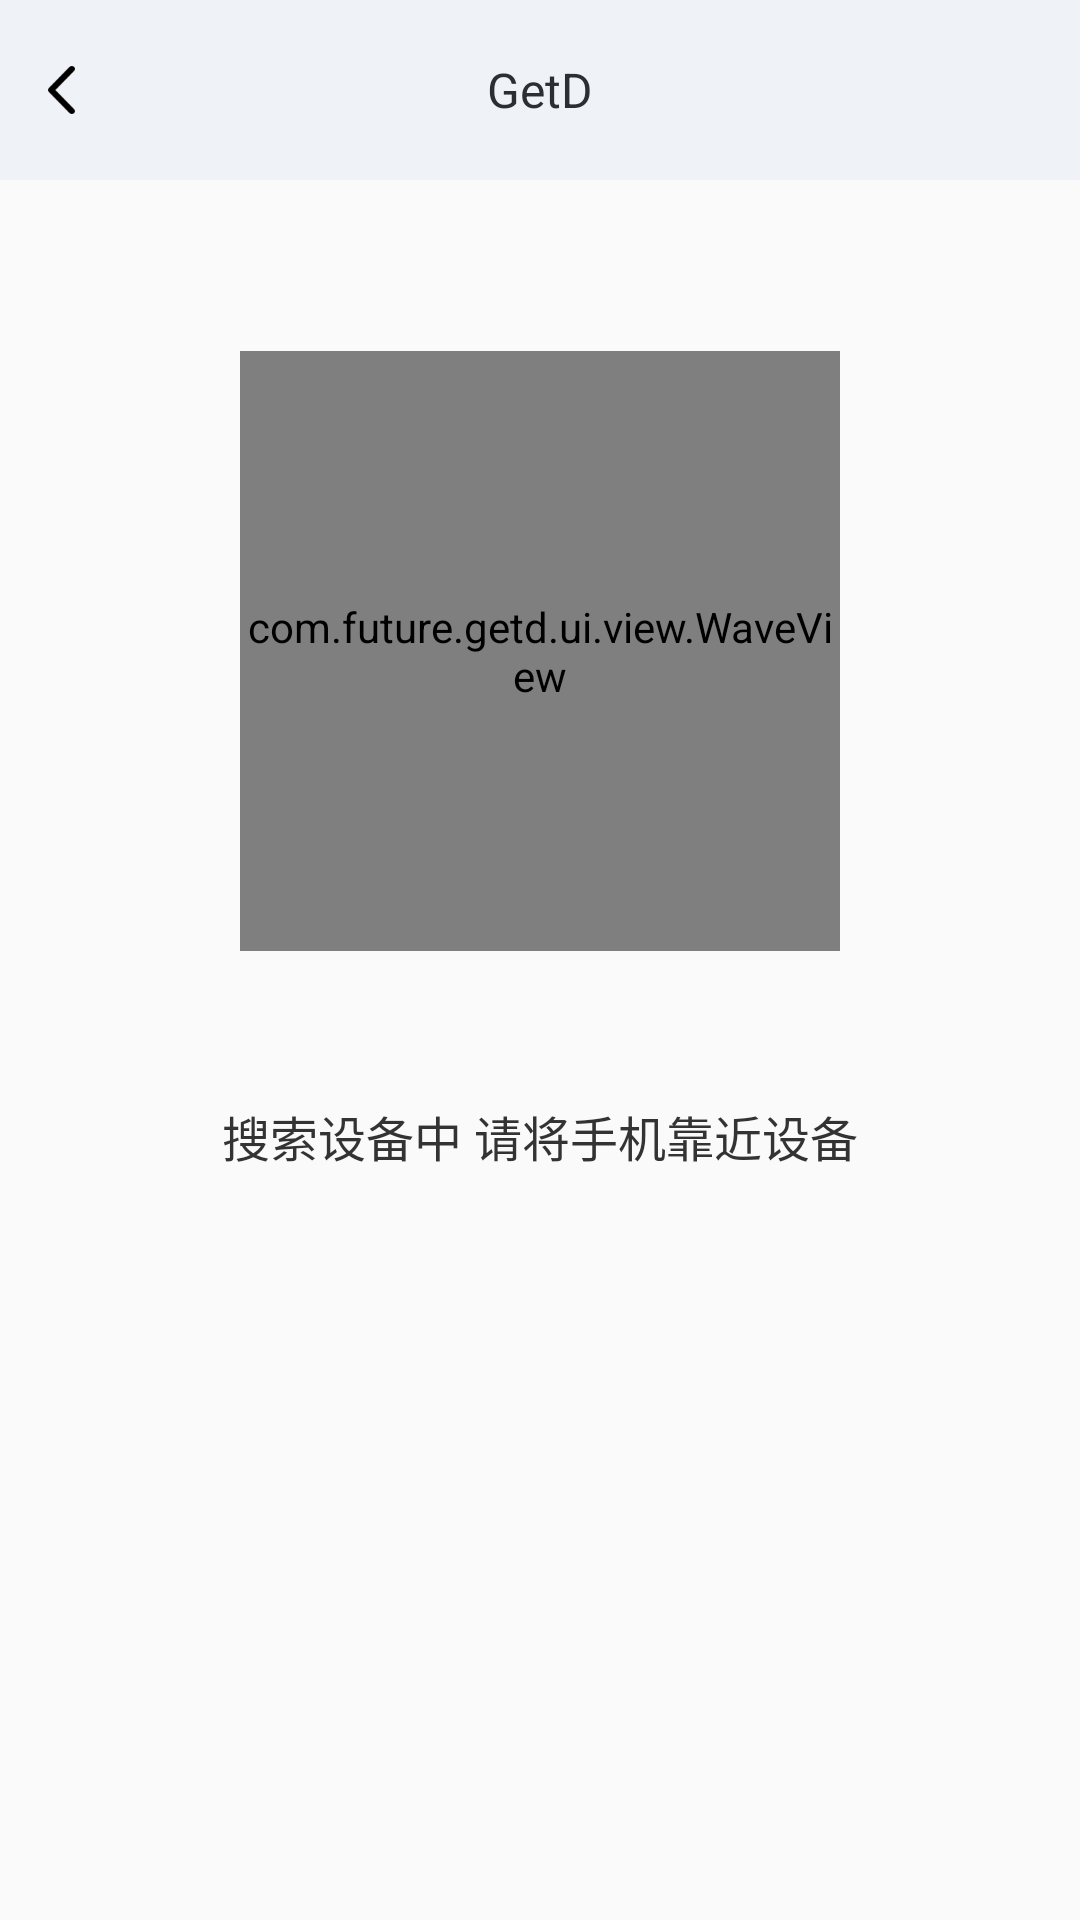

Named icons in this screenshot (1080x1920) and their centers, point (x, y):
back: point (61, 90)
